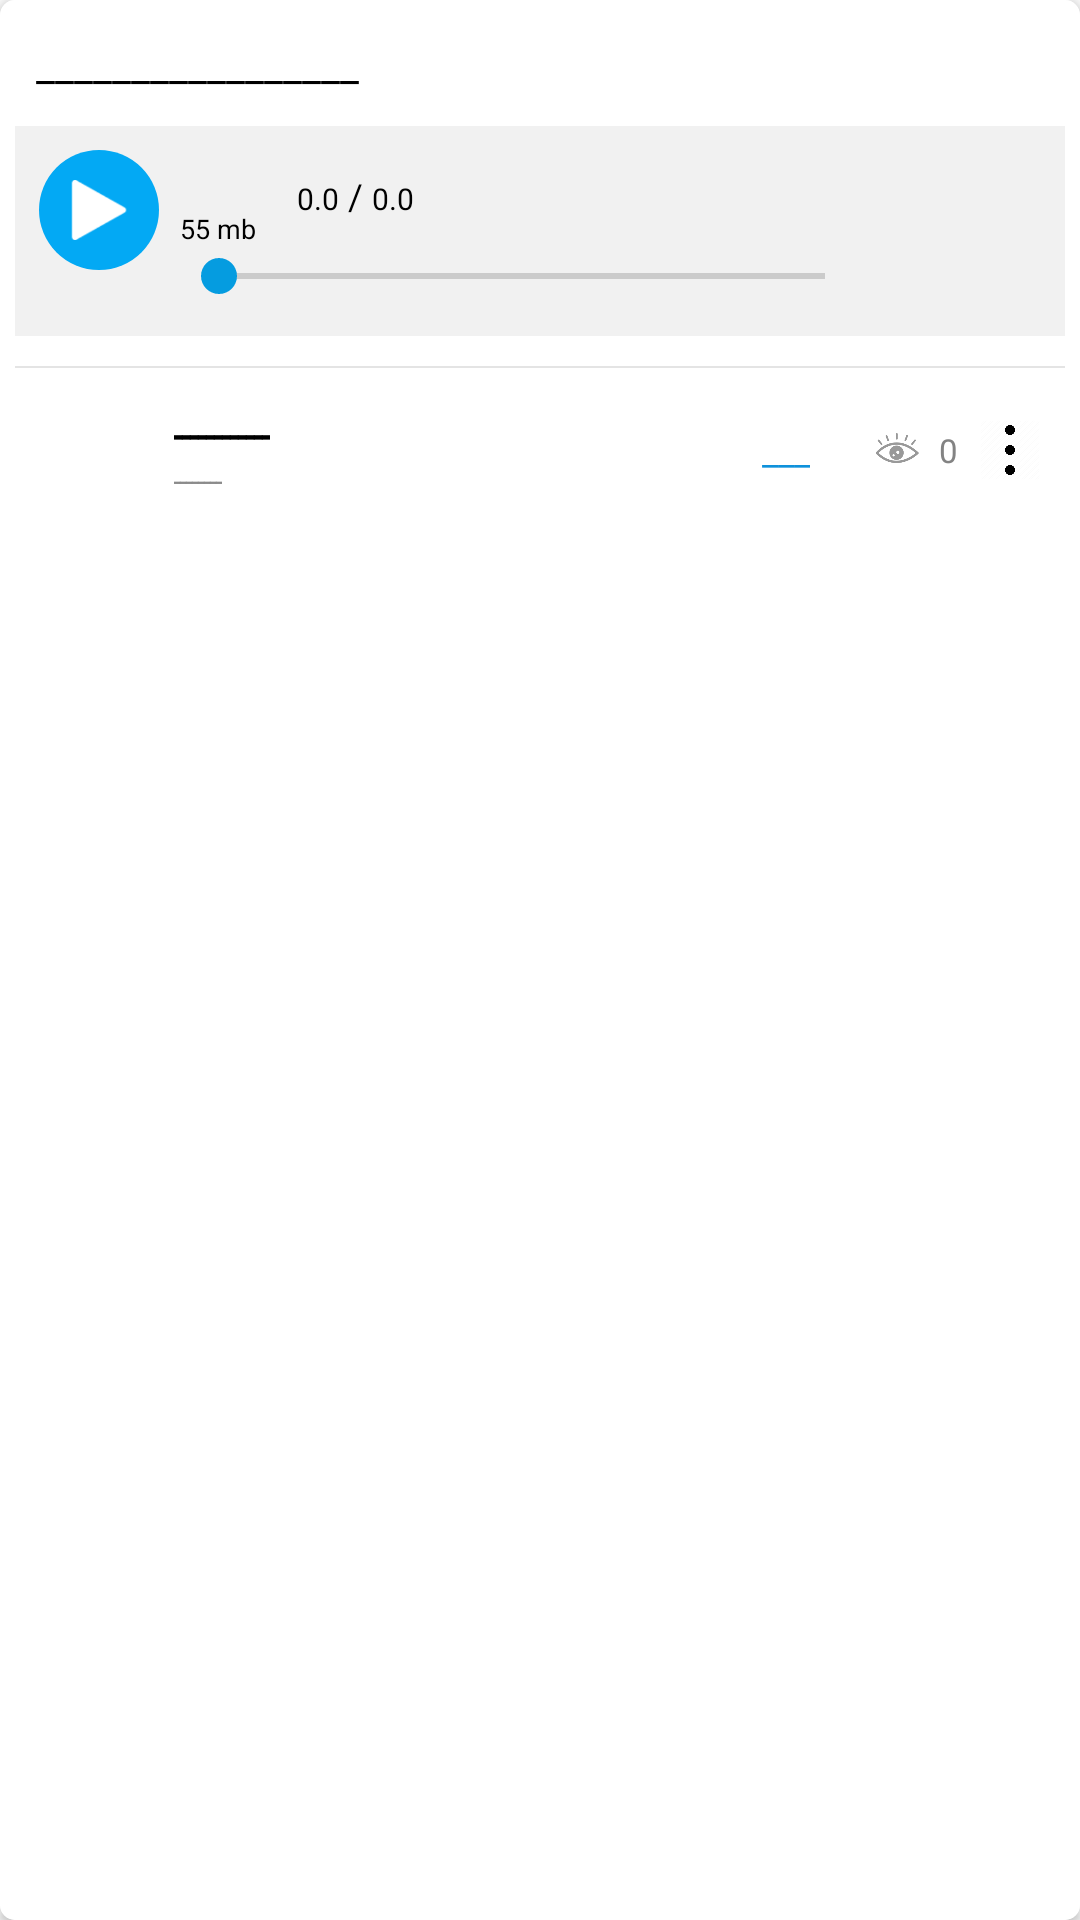

Icon click points for this 1080 × 1920 phone screenshot, format point (x, y):
eye: point (897, 448)
more: point (1010, 450)
play audio: point (99, 210)
